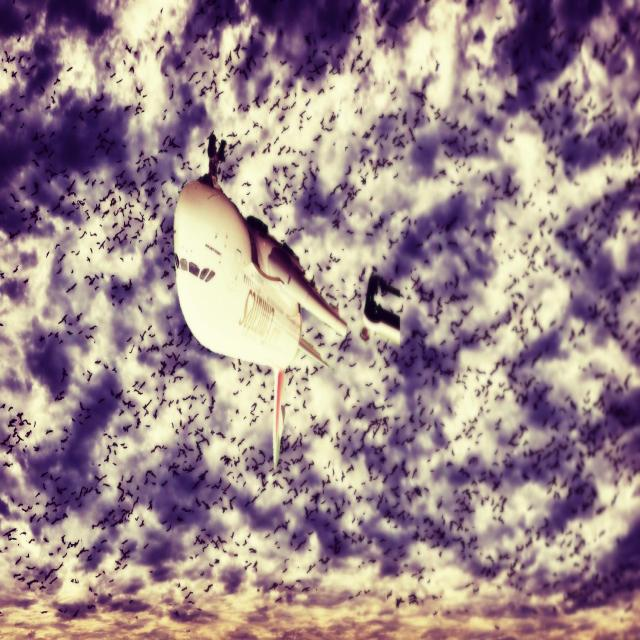airplane: (173, 134, 400, 470)
